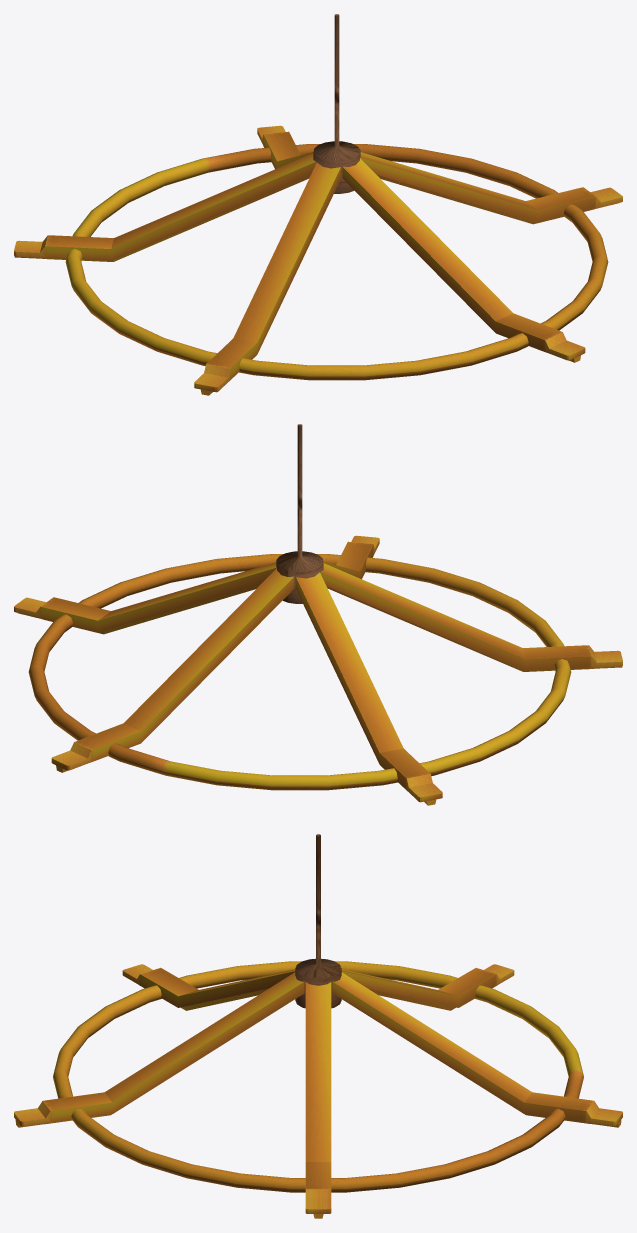
3 views of the same model, one above another, from view 1: azimuth 30°, elevation 25°; view 2: azimuth 150°, elevation 25°; view 3: azimuth 270°, elevation 25° (orthographic). The views are drawn at different scales.
Parts seen in each view (by area): view 1: Cylinder001, Torus001; view 2: Cylinder001, Torus001; view 3: Cylinder001, Torus001.
Boxes of the visible parts, bbox=[...] form: Cylinder001: bbox=[14, 14, 622, 395]; Torus001: bbox=[65, 144, 608, 380]; Cylinder001: bbox=[14, 424, 622, 805]; Torus001: bbox=[28, 554, 571, 790]; Cylinder001: bbox=[14, 834, 622, 1218]; Torus001: bbox=[53, 961, 583, 1192].
Size of the model in its own units: 443 by 210 by 465.
2 materials, 2 textured.
